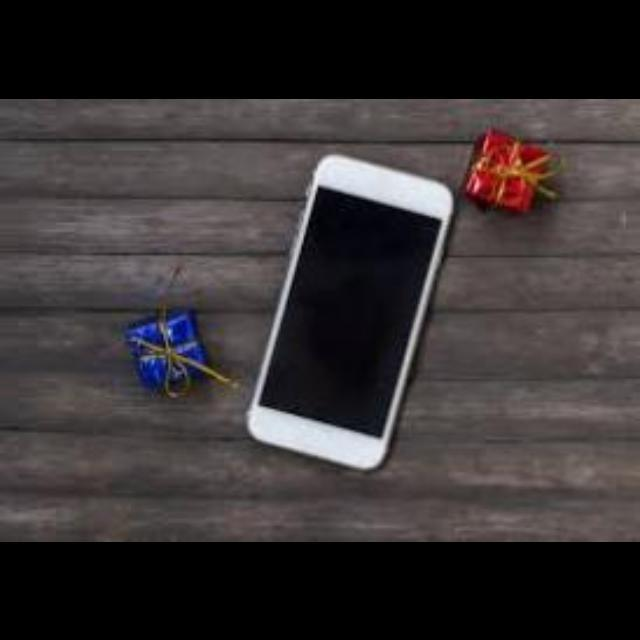PhoneUse: (245, 153, 455, 470)
